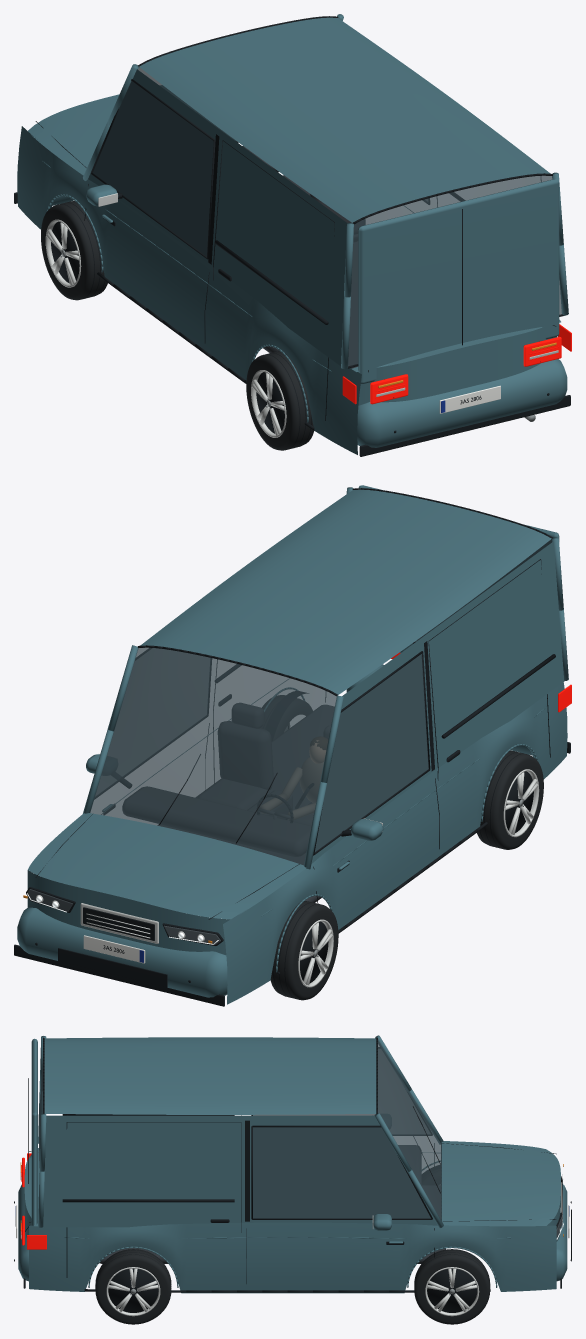
Rendered from van.glb.
3 renders of one model, top to bottom at view 1: azimuth 30°, elevation 25°; view 2: azimuth 150°, elevation 25°; view 3: azimuth 270°, elevation 25°, orthographic. The views are drawn at different scales.
Parts seen in each view (by area): view 1: dynamic_body_Metallic car body paint, dynamic_body_Car clear tinted glass, dynamic_body_Recessed automotive panel seams, wheel_RL_Tyre rubber with satin sidewalls, wheel_FL_Tyre rubber with satin sidewalls, dynamic_body_Rear brake lamps, dynamic_body_Automotive charcoal upholstery, wheel_FL_Chrome trim, wheel_RL_Chrome trim, wheel_RL_Recessed automotive panel seams, wheel_FL_Recessed automotive panel seams, dynamic_body_Registration plate white; view 2: dynamic_body_Metallic car body paint, dynamic_body_Car clear tinted glass, dynamic_body_Automotive charcoal upholstery, dynamic_body_Recessed automotive panel seams, wheel_FL_Tyre rubber with satin sidewalls, wheel_RL_Tyre rubber with satin sidewalls, dynamic_body_Coat fabric, wheel_RL_Chrome trim, wheel_FL_Chrome trim, dynamic_body_Chrome trim, wheel_FL_Recessed automotive panel seams, wheel_RL_Recessed automotive panel seams (+3 smaller); view 3: dynamic_body_Metallic car body paint, dynamic_body_Car clear tinted glass, dynamic_body_Recessed automotive panel seams, wheel_RR_Tyre rubber with satin sidewalls, wheel_FR_Tyre rubber with satin sidewalls, wheel_RR_Recessed automotive panel seams, wheel_FR_Recessed automotive panel seams, dynamic_body_Automotive charcoal upholstery, wheel_FR_Chrome trim, wheel_RR_Chrome trim, dynamic_body_Rear brake lamps.
Part boxes in pixels (box(x1,y1,x2,y2)): dynamic_body_Metallic car body paint: box(17, 14, 568, 454); dynamic_body_Car clear tinted glass: box(92, 67, 562, 366); dynamic_body_Recessed automotive panel seams: box(14, 16, 570, 456); wheel_RL_Tyre rubber with satin sidewalls: box(246, 351, 314, 450); wheel_FL_Tyre rubber with satin sidewalls: box(41, 201, 107, 300); dynamic_body_Rear brake lamps: box(342, 324, 571, 404); dynamic_body_Automotive charcoal upholstery: box(242, 146, 365, 368); wheel_FL_Chrome trim: box(45, 219, 81, 287); wheel_RL_Chrome trim: box(251, 370, 286, 437); wheel_RL_Recessed automotive panel seams: box(256, 351, 311, 448); wheel_FL_Recessed automotive panel seams: box(51, 201, 105, 298); dynamic_body_Registration plate white: box(439, 385, 500, 413); dynamic_body_Metallic car body paint: box(17, 485, 568, 1004); dynamic_body_Car clear tinted glass: box(90, 539, 551, 865); dynamic_body_Automotive charcoal upholstery: box(122, 703, 334, 902); dynamic_body_Recessed automotive panel seams: box(14, 488, 570, 1006); wheel_FL_Tyre rubber with satin sidewalls: box(270, 901, 338, 1000); wheel_RL_Tyre rubber with satin sidewalls: box(477, 750, 543, 849); dynamic_body_Coat fabric: box(260, 757, 323, 819); wheel_RL_Chrome trim: box(503, 769, 539, 837); wheel_FL_Chrome trim: box(298, 919, 333, 987); dynamic_body_Chrome trim: box(36, 754, 382, 943); wheel_FL_Recessed automotive panel seams: box(272, 901, 328, 998); wheel_RL_Recessed automotive panel seams: box(479, 750, 533, 848); dynamic_body_Metallic car body paint: box(18, 1035, 567, 1293); dynamic_body_Car clear tinted glass: box(39, 1040, 441, 1219); dynamic_body_Recessed automotive panel seams: box(14, 1037, 571, 1292); wheel_RR_Tyre rubber with satin sidewalls: box(95, 1249, 171, 1324); wheel_FR_Tyre rubber with satin sidewalls: box(414, 1249, 490, 1324); wheel_RR_Recessed automotive panel seams: box(96, 1250, 171, 1312); wheel_FR_Recessed automotive panel seams: box(415, 1250, 489, 1312); dynamic_body_Automotive charcoal upholstery: box(99, 1145, 445, 1263); wheel_FR_Chrome trim: box(425, 1267, 479, 1316); wheel_RR_Chrome trim: box(106, 1267, 160, 1316); dynamic_body_Rear brake lamps: box(21, 1153, 46, 1249).
Size of the model in its own units: 2.46 by 2.19 by 5.29.
